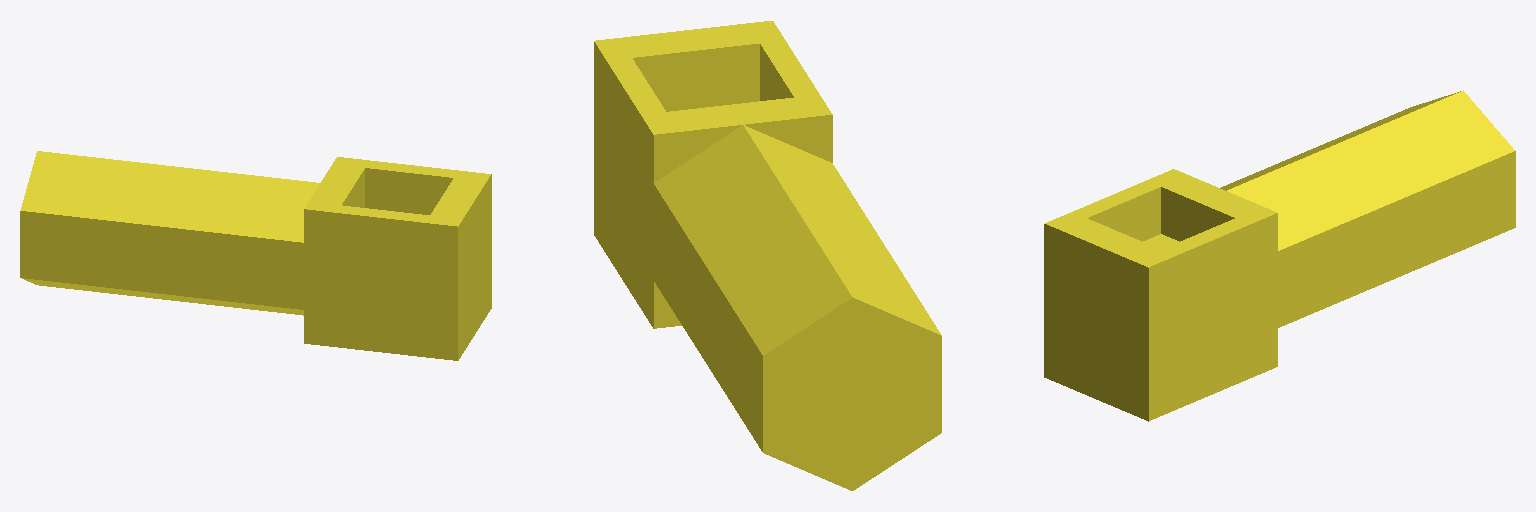
URDF robot description (panda):
<?xml version="1.0" ?>
<robot name="panda" xmlns:xacro="http://www.ros.org/wiki/xacro">
  <link name="panda_link0">
    <visual>
      <geometry>
        <mesh filename="package://franka_description/meshes/visual/link0.dae"/>
      </geometry>
    </visual>
    <collision>
      <geometry>
        <mesh filename="package://franka_description/meshes/collision/link0.obj"/>
      </geometry>
    </collision>
  </link>
  <link name="panda_link1">
    <visual>
      <geometry>
        <mesh filename="package://franka_description/meshes/visual/link1.dae"/>
      </geometry>
    </visual>
    <collision>
      <geometry>
        <mesh filename="package://franka_description/meshes/collision/link1.obj"/>
      </geometry>
    </collision>
    <inertial>
        <origin xyz="0.00387 0.00208 0.00000" rpy="0 0 0" />
        <mass value="4.97068" />
        <inertia ixx="0.70337" ixy="-0.00014" ixz="0.00677" iyy="0.70661" iyz="0.01917" izz="0.00912" />
    </inertial>
  </link>
  <joint name="panda_joint1" type="revolute">
    <safety_controller k_position="100.0" k_velocity="40.0" soft_lower_limit="-2.8973" soft_upper_limit="2.8973"/>
    <origin rpy="0 0 0" xyz="0 0 0.333"/>
    <parent link="panda_link0"/>
    <child link="panda_link1"/>
    <axis xyz="0 0 1"/>
    <dynamics damping="10.0"/>
    <limit effort="87" lower="-2.9671" upper="2.9671" velocity="2.1750"/>
  </joint>
  <link name="panda_link2">
    <visual>
      <geometry>
        <mesh filename="package://franka_description/meshes/visual/link2.dae"/>
      </geometry>
    </visual>
    <collision>
      <geometry>
        <mesh filename="package://franka_description/meshes/collision/link2.obj"/>
      </geometry>
    </collision>
    <inertial>
        <origin xyz="-0.00314 -0.02872 0.00350" rpy="0 0 0" />
        <mass value="0.64693" />
        <inertia ixx="0.00796" ixy="-0.00392" ixz="0.01025" iyy="0.02811" iyz="0.00070" izz="0.02599" />
    </inertial>
  </link>
  <joint name="panda_joint2" type="revolute">
    <safety_controller k_position="100.0" k_velocity="40.0" soft_lower_limit="-1.7628" soft_upper_limit="1.7628"/>
    <origin rpy="-1.57079632679 0 0" xyz="0 0 0"/>
    <parent link="panda_link1"/>
    <child link="panda_link2"/>
    <axis xyz="0 0 1"/>
    <dynamics damping="10.0"/>
    <limit effort="87" lower="-1.8326" upper="1.8326" velocity="2.1750"/>
  </joint>
  <link name="panda_link3">
    <visual>
      <geometry>
        <mesh filename="package://franka_description/meshes/visual/link3.dae"/>
      </geometry>
    </visual>
    <collision>
      <geometry>
        <mesh filename="package://franka_description/meshes/collision/link3.obj"/>
      </geometry>
    </collision>
    <inertial>
        <origin xyz="0.02752 0.03925 -0.06650" rpy="0 0 0" />
        <mass value="3.22860" />
        <inertia ixx="0.03724" ixy="-0.00476" ixz="-0.01140" iyy="0.03615" iyz="-0.01281" izz="0.01083" />
    </inertial>
  </link>
  <joint name="panda_joint3" type="revolute">
    <safety_controller k_position="100.0" k_velocity="40.0" soft_lower_limit="-2.8973" soft_upper_limit="2.8973"/>
    <origin rpy="1.57079632679 0 0" xyz="0 -0.316 0"/>
    <parent link="panda_link2"/>
    <child link="panda_link3"/>
    <axis xyz="0 0 1"/>
    <dynamics damping="10.0"/>
    <limit effort="87" lower="-2.9671" upper="2.9671" velocity="2.1750"/>
  </joint>
  <link name="panda_link4">
    <visual>
      <geometry>
        <mesh filename="package://franka_description/meshes/visual/link4.dae"/>
      </geometry>
    </visual>
    <collision>
      <geometry>
        <mesh filename="package://franka_description/meshes/collision/link4.obj"/>
      </geometry>
    </collision>
    <inertial>
        <origin xyz="-0.05317 0.10442 0.02745" rpy="0 0 0" />
        <mass value="3.58789" />
        <inertia ixx="0.02585" ixy="0.00780" ixz="-0.00133" iyy="0.01955" iyz="0.00864" izz="0.02832" />
    </inertial>
  </link>
  <joint name="panda_joint4" type="revolute">
    <safety_controller k_position="100.0" k_velocity="40.0" soft_lower_limit="-3.0718" soft_upper_limit="-0.0698"/>
    <origin rpy="1.57079632679 0 0" xyz="0.0825 0 0"/>
    <parent link="panda_link3"/>
    <child link="panda_link4"/>
    <axis xyz="0 0 1"/>
    <!--
    <dynamics damping="10.0"/>
    <limit effort="87" lower="-3.1416" upper="0.0" velocity="2.1750"/>
    something is weird with this joint limit config
    <dynamics damping="10.0"/>
    <limit effort="87" lower="-0.01" upper="0.01" velocity="2.1750"/>
    -->
    <dynamics damping="10.0"/>
    <limit effort="87" lower="-3.0" upper="0.087" velocity="2.1750"/> 
  </joint>
  <link name="panda_link5">
    <visual>
      <geometry>
        <mesh filename="package://franka_description/meshes/visual/link5.dae"/>
      </geometry>
    </visual>
    <collision>
      <geometry>
        <mesh filename="package://franka_description/meshes/collision/link5.obj"/>
      </geometry>
    </collision>
    <inertial>
        <origin xyz="-0.01195 0.04106 -0.03844" rpy="0 0 0" />
        <mass value="1.22595" />
        <inertia ixx="0.03555" ixy="-0.00212" ixz="-0.00404" iyy="0.02947" iyz="0.00023" izz="0.00863" />
    </inertial>
  </link>
  <joint name="panda_joint5" type="revolute">
    <safety_controller k_position="100.0" k_velocity="40.0" soft_lower_limit="-2.8973" soft_upper_limit="2.8973"/>
    <origin rpy="-1.57079632679 0 0" xyz="-0.0825 0.384 0"/>
    <parent link="panda_link4"/>
    <child link="panda_link5"/>
    <axis xyz="0 0 1"/>
    <dynamics damping="10.0"/>
    <limit effort="12" lower="-2.9671" upper="2.9671" velocity="2.6100"/>
  </joint>
  <link name="panda_link6">
    <visual>
      <geometry>
        <mesh filename="package://franka_description/meshes/visual/link6.dae"/>
      </geometry>   
    </visual>
    <collision>
      <geometry>
        <mesh filename="package://franka_description/meshes/collision/link6.obj"/>
      </geometry>
    </collision>
    <inertial>
        <origin xyz="0.06015 -0.01412 -0.01052" rpy="0 0 0" />
        <mass value="1.66656" />
        <inertia ixx="0.00196" ixy="0.00011" ixz="-0.00116" iyy="0.00435" iyz="0.00034" izz="0.00543" />
    </inertial>
  </link>
  <joint name="panda_joint6" type="revolute">
    <safety_controller k_position="100.0" k_velocity="40.0" soft_lower_limit="-0.0175" soft_upper_limit="3.7525"/>
    <origin rpy="1.57079632679 0 0" xyz="0 0 0"/>
    <parent link="panda_link5"/>
    <child link="panda_link6"/>
    <axis xyz="0 0 1"/>
    <!--
    <dynamics damping="10.0"/>
    <limit effort="12" lower="-0.0873" upper="3.8223" velocity="2.6100"/>
    -->
    <dynamics damping="10.0"/>
    <limit effort="12" lower="-0.0873" upper="3.0" velocity="2.6100"/>
  </joint>
  <link name="panda_link7">
    <visual>
      <geometry>
        <mesh filename="package://franka_description/meshes/visual/link7.dae"/>
      </geometry>
    </visual>
    <collision>
      <geometry>
        <mesh filename="package://franka_description/meshes/collision/link7.obj"/>
      </geometry>
    </collision>
    <inertial>
        <origin xyz="0.01052 -0.00425 0.06160" rpy="0 0 0" />
        <mass value="0.73552" />
        <inertia ixx="0.01252" ixy="-0.00043" ixz="-0.00120" iyy="0.01003" iyz="-0.00074" izz="0.00481" />
    </inertial>
  </link>
  <joint name="panda_joint7" type="revolute">
    <safety_controller k_position="100.0" k_velocity="40.0" soft_lower_limit="-2.8973" soft_upper_limit="2.8973"/>
    <origin rpy="1.57079632679 0 0" xyz="0.088 0 0"/>
    <parent link="panda_link6"/>
    <child link="panda_link7"/>
    <axis xyz="0 0 1"/>
    <dynamics damping="10.0"/>
    <limit effort="12" lower="-2.9671" upper="2.9671" velocity="2.6100"/>
  </joint>
  <!--
  <link name="panda_link8"/>
  <joint name="panda_joint8" type="fixed">
    <origin rpy="0 0 0" xyz="0 0 0.107"/>
    <parent link="panda_link7"/>
    <child link="panda_link8"/>
    <axis xyz="0 0 0"/>
  </joint>
  Removing this joint seems to help with some stability things
  -->
  <joint name="panda_hand_joint" type="fixed">
    <!--
    <parent link="panda_link8"/>
    -->
    <parent link="panda_link7"/>
    <child link="panda_hand"/>
    <origin rpy="0 0 -0.785398163397" xyz="0 0 0.107"/>
    <!--
    <origin rpy="0 0 -0.785398163397" xyz="0 0 0"/>
    -->
  </joint>
  <link name="panda_hand">
    <visual>
      <geometry>
        <mesh filename="package://franka_description/meshes/visual/hand.dae"/>
      </geometry>
    </visual>
    <collision>
      <geometry>
        <mesh filename="package://franka_description/meshes/collision/hand.obj"/>
      </geometry>
    </collision>
    <inertial>
        <origin xyz="-0.01 0 0.03" rpy="0 0 0" />
        <mass value="0.73" />
        <inertia ixx="0.001" ixy="0" ixz="0" iyy="0.0025" iyz="0" izz="0.0017" />
    </inertial>
  </link>
  <link name="panda_leftfinger">
    <visual>
      <geometry>
        <mesh filename="package://franka_description/meshes/visual/finger.dae"/>
      </geometry>
    </visual>
    <collision>
      <geometry>
        <mesh filename="package://franka_description/meshes/collision/finger.obj"/>
      </geometry>
    </collision>
  </link>
  <link name="panda_rightfinger">
    <visual>
      <origin rpy="0 0 3.14159265359" xyz="0 0 0"/>
      <geometry>
        <mesh filename="package://franka_description/meshes/visual/finger.dae"/>
      </geometry>
    </visual>
    <collision>
      <origin rpy="0 0 3.14159265359" xyz="0 0 0"/>
      <geometry>
        <mesh filename="package://franka_description/meshes/collision/finger.obj"/>
      </geometry>
    </collision>
  </link>
  <link name="hex_screw_wrench">
    <visual>
      <origin rpy="0 3.14159265359 0" xyz="0 0 0"/>
      <geometry>
        <mesh filename="package://franka_description/ee_meshes/franka_wrench.obj" scale="0.0007 0.0007 0.0007"/>
      </geometry>
    </visual>
    <collision>
      <origin rpy="-1.570796327 0 0" xyz="0 0 0"/>
      <geometry>
        <mesh filename="package://franka_description/ee_meshes/franka_wrench.obj" scale="0.0007 0.0007 0.0007"/>
      </geometry>
    </collision>
  </link>
  <joint name="panda_finger_joint1" type="prismatic">
    <parent link="panda_hand"/>
    <child link="panda_leftfinger"/>
    <origin rpy="0 0 0" xyz="0 0 0.0584"/>
    <axis xyz="0 1 0"/>
    <dynamics damping="10.0"/>
    <limit effort="20" lower="0.0" upper="0.04" velocity="0.2"/>
  </joint>
  <joint name="panda_finger_joint2" type="prismatic">
    <parent link="panda_hand"/>
    <child link="panda_rightfinger"/>
    <origin rpy="0 0 0" xyz="0 0 0.0584"/>
    <axis xyz="0 -1 0"/>
    <dynamics damping="10.0"/>
    <limit effort="20" lower="0.0" upper="0.04" velocity="0.2"/>
    <mimic joint="panda_finger_joint1"/>
  </joint>
  <joint name="panda_hex_screw_wrench_joint" type="fixed">
    <parent link="panda_hand"/>
    <child link="hex_screw_wrench"/>
    <origin rpy="0 0 0" xyz="0 0 0.1"/>
  </joint>
</robot>

--- Render facts (derived) ---
Views: 3 orthographic renders of the robot side by side, from view 1: azimuth 30°, elevation 25°; view 2: azimuth 150°, elevation 25°; view 3: azimuth 270°, elevation 25°.
Model panda with 12 links and 11 joints (7 revolute, 2 prismatic, 2 fixed), rooted at panda_link0, posed all joints at 0.
Visible links, largest first — view 1: hex_screw_wrench; view 2: hex_screw_wrench; view 3: hex_screw_wrench.
Boxes of the visible links, box(x1,y1,x2,y2) form: hex_screw_wrench: box(20, 151, 491, 360); hex_screw_wrench: box(594, 21, 941, 490); hex_screw_wrench: box(1044, 90, 1515, 421).
Size in the robot's own frame: 0.0572 by 0.0572 by 0.0206 metres.
Meshes: 11 distinct files referenced, 1 mesh visuals loaded (1 OBJ); not drawn: 11 (reference not matched to a file when rendering).